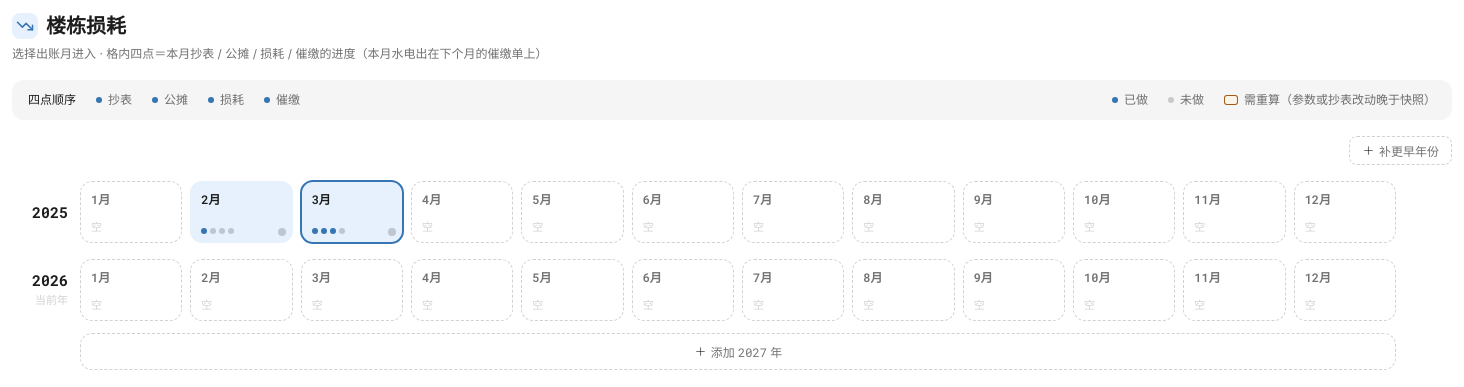
Test: 出账链动线 · 楼栋损耗 › 点月格 → 落表格，并且拉的是那个月
This screenshot has width=1464, height=387.
Note: 2025 年那一行的 3 月（数据年只有 2025）
Step 1. Click the button with class "bmm-card" showing "3月" → {"x": 352, "y": 212}, box [301,181,403,243]
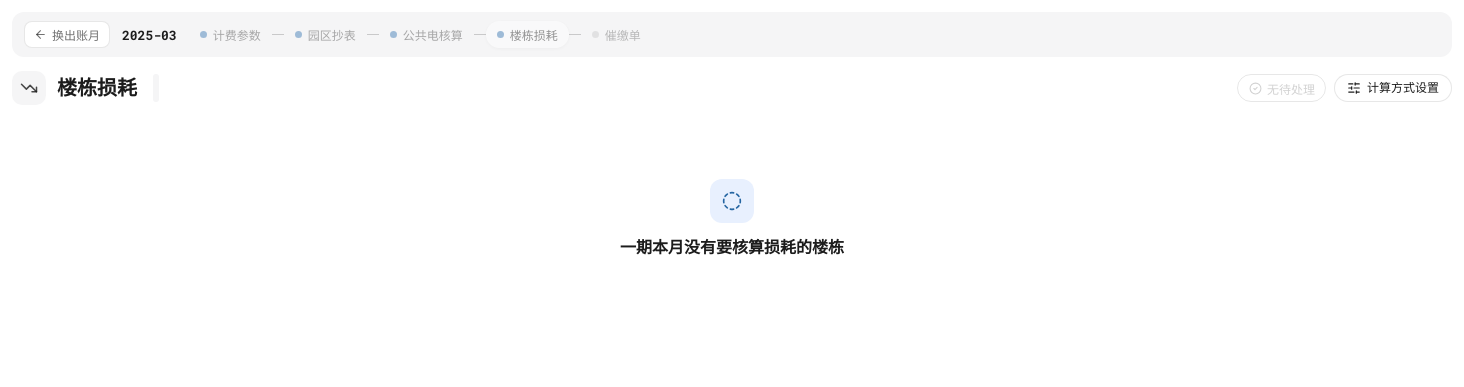
Now the element with class "ll-page" is shown
